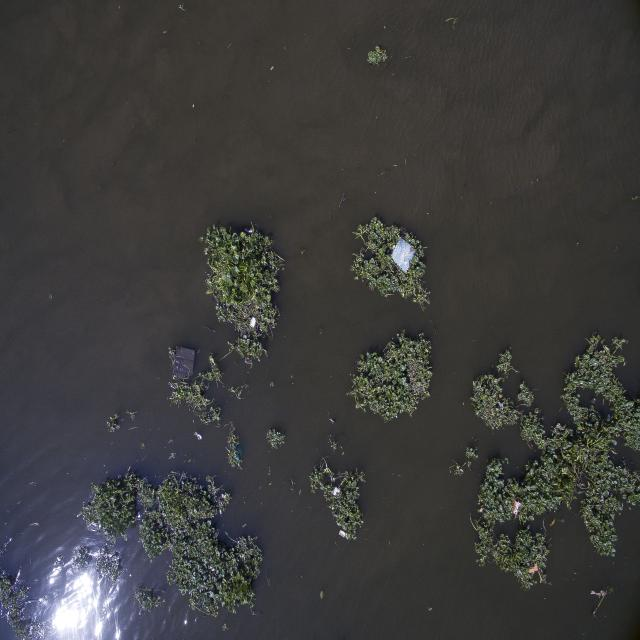plastic: (161, 324, 207, 424), (380, 220, 428, 292), (499, 496, 538, 522), (336, 516, 357, 552), (319, 487, 348, 502), (249, 310, 262, 336)
